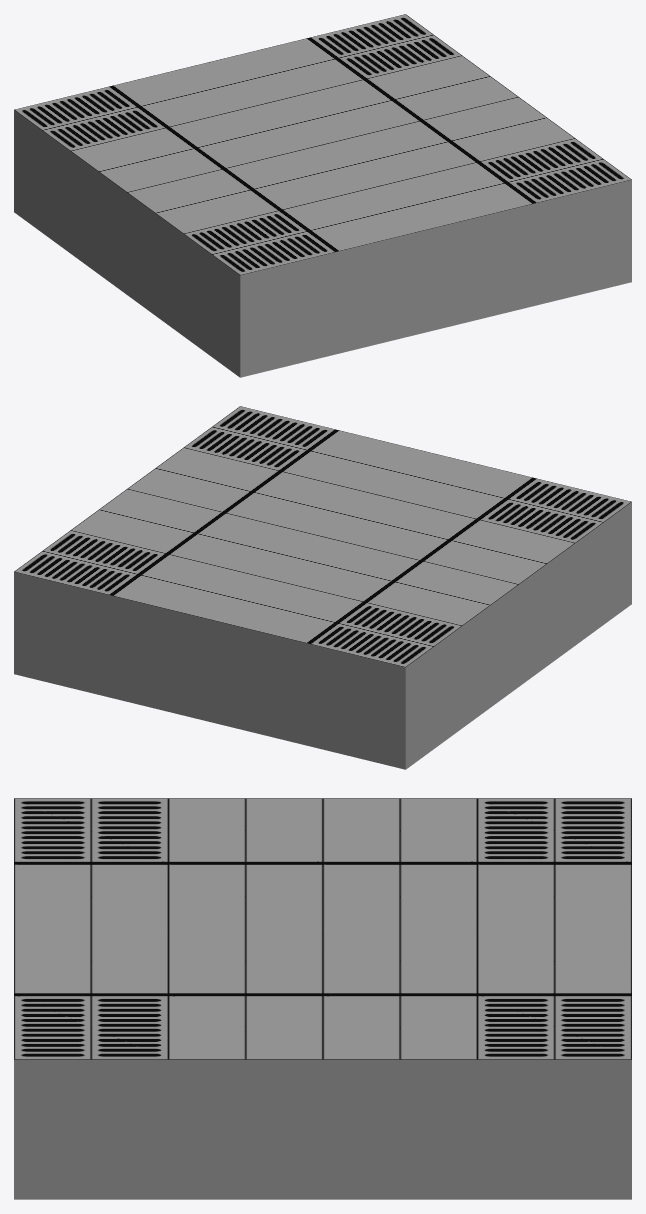
Rendered from chão.glb.
3 views of the same model, one above another, from view 1: azimuth 30°, elevation 25°; view 2: azimuth 150°, elevation 25°; view 3: azimuth 270°, elevation 25° (orthographic). The views are drawn at different scales.
Visible parts, largest first — view 1: Cube.002; view 2: Cube.002; view 3: Cube.002.
Boxes of the visible parts, x1,y1,x2,y2 form: Cube.002: [14, 14, 631, 377]; Cube.002: [14, 406, 631, 769]; Cube.002: [14, 798, 631, 1199].
Bounding box in the file's own units: 3 × 0.75 × 3.
1 material, 1 textured.
